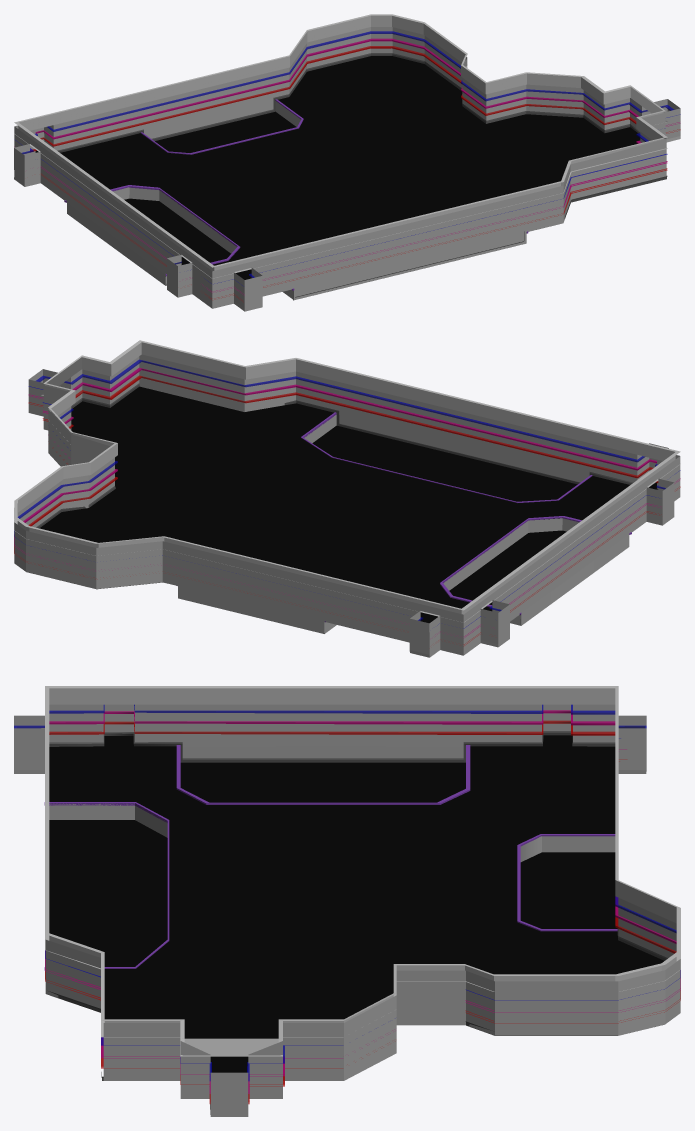
File: Environment_Mesh_2.0.fbx
The picture shows the model from 3 angles, top to bottom: view 1: azimuth 30°, elevation 25°; view 2: azimuth 150°, elevation 25°; view 3: azimuth 270°, elevation 25°; orthographic projection. The views are drawn at different scales.
Parts seen in each view (by area): view 1: Environment_Mesh; view 2: Environment_Mesh; view 3: Environment_Mesh.
Boxes of the visible parts, x1,y1,x2,y2 form: Environment_Mesh: (14,14,680,311); Environment_Mesh: (14,340,680,657); Environment_Mesh: (14,686,680,1116).
Size of the model in its own units: 14746 by 1379 by 10882.
